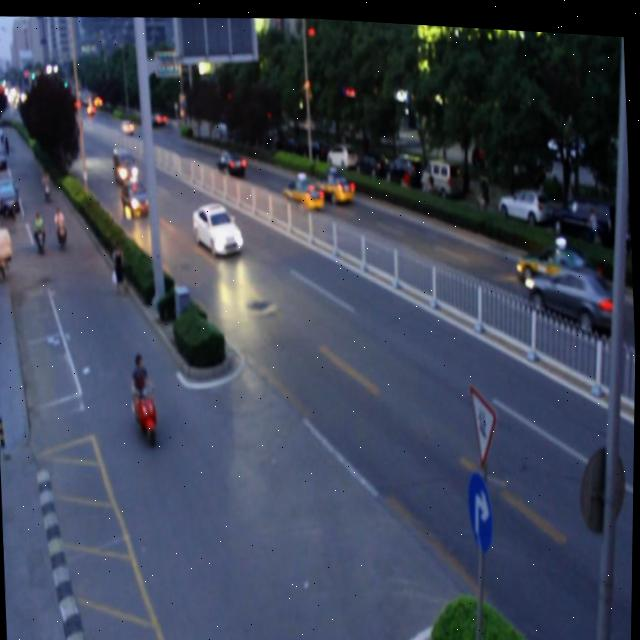car: (524, 252, 622, 327), (516, 227, 597, 276), (191, 197, 244, 254), (315, 162, 354, 200), (281, 171, 320, 208), (121, 174, 149, 213), (215, 145, 246, 172)
truck: (114, 146, 136, 181)
